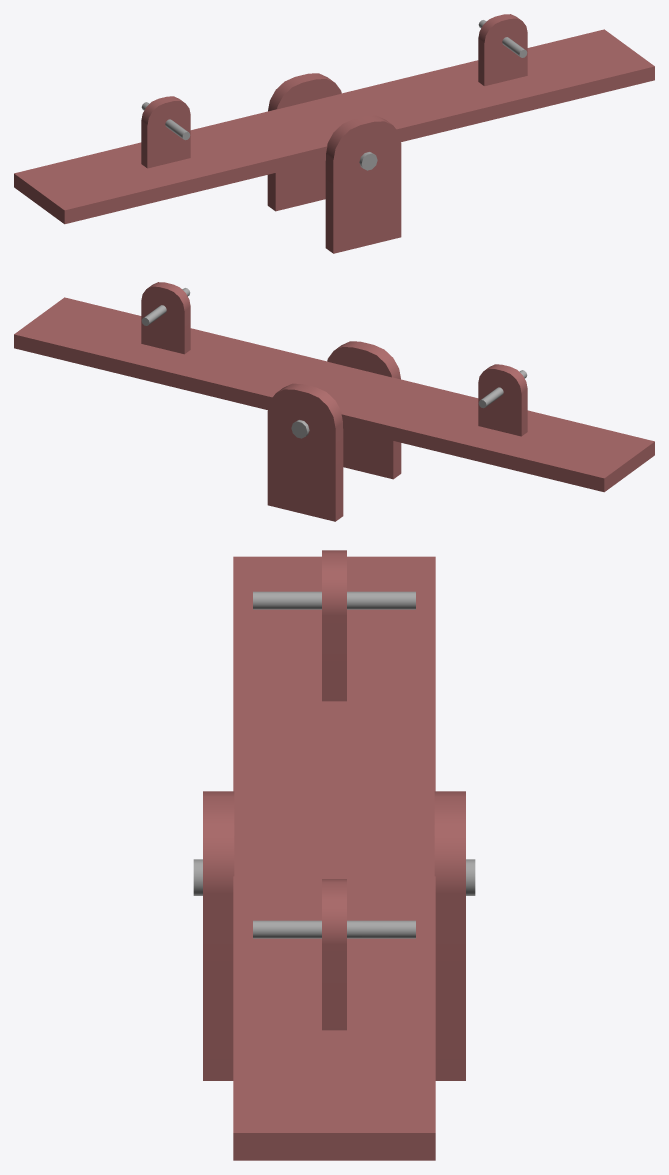
Rendered from sm_jeu_2_LP.fbx.
3 views of the same model, one above another, from view 1: azimuth 30°, elevation 25°; view 2: azimuth 150°, elevation 25°; view 3: azimuth 270°, elevation 25° (orthographic). The views are drawn at different scales.
Parts seen in each view (by area): view 1: jeu_2_LP; view 2: jeu_2_LP; view 3: jeu_2_LP.
Part boxes in pixels (x1,y1,x2,y2): jeu_2_LP: [14, 14, 654, 253]; jeu_2_LP: [14, 282, 654, 521]; jeu_2_LP: [193, 550, 475, 1160].
Size of the model in its own units: 496 by 131 by 102.
